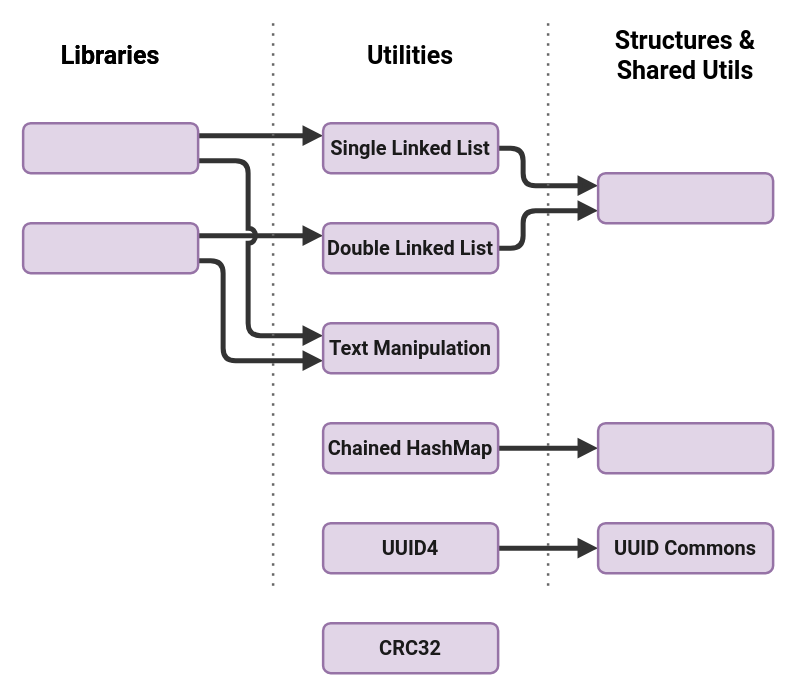
The diagram is 795 pixels wide and 695 high, and some of its shapes have lost their labels. Each missing label, with the centre of its shape:
"Arguments" goes at pixel 110 247.
"HashMap Commons" goes at pixel 685 447.
"INI Parser" goes at pixel 110 147.
"Linked List Commons" goes at pixel 685 197.
